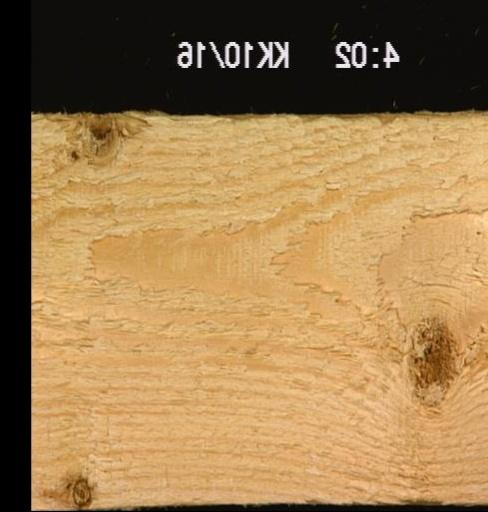edge_knot: (46, 109, 149, 166), (69, 473, 93, 509)
